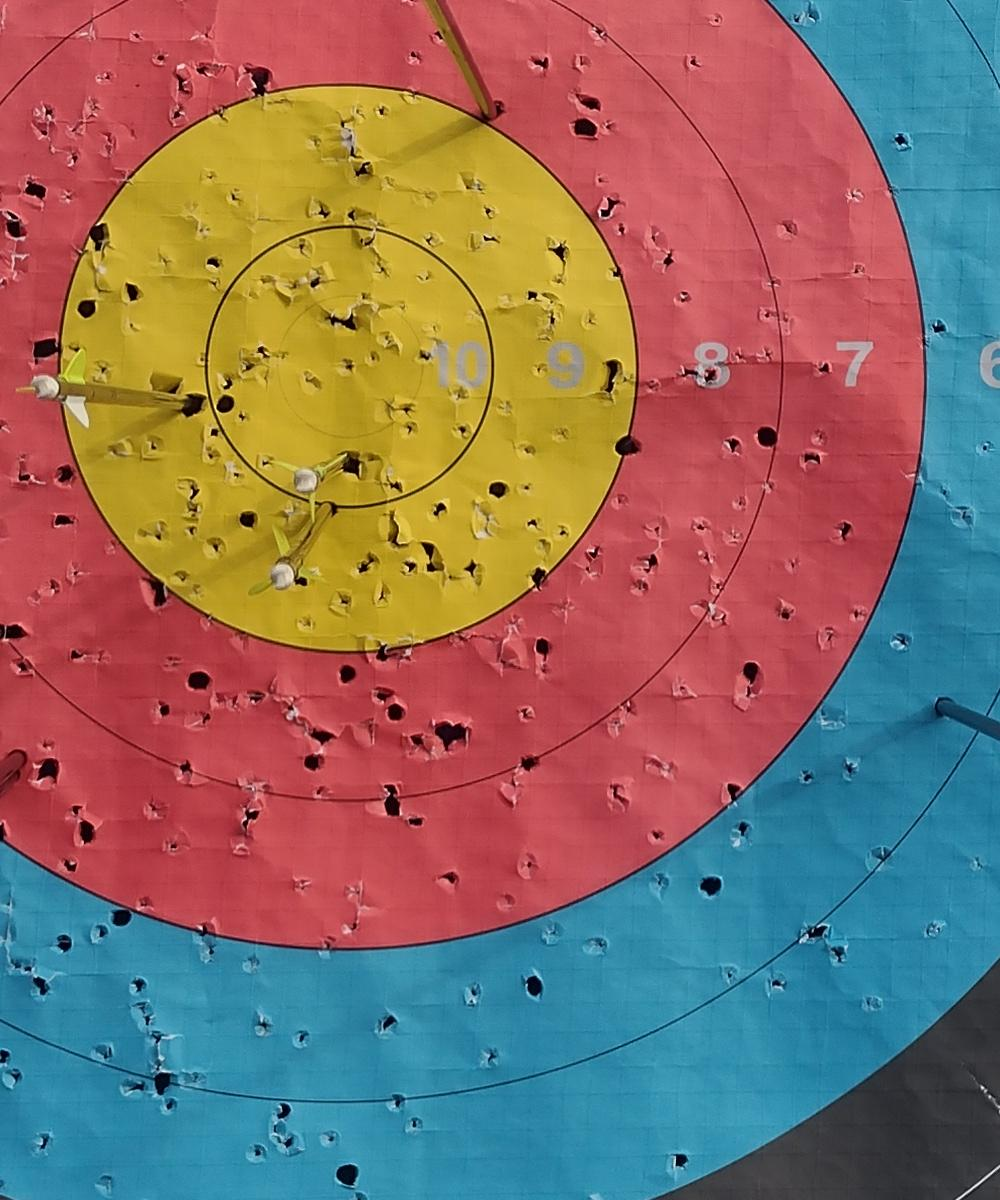10-Ring: (184, 203, 515, 532)
8-Ring: (0, 0, 785, 803)
9-Ring: (56, 88, 637, 653)
Arrow: (24, 336, 196, 464), (249, 497, 334, 603), (271, 453, 358, 527)
